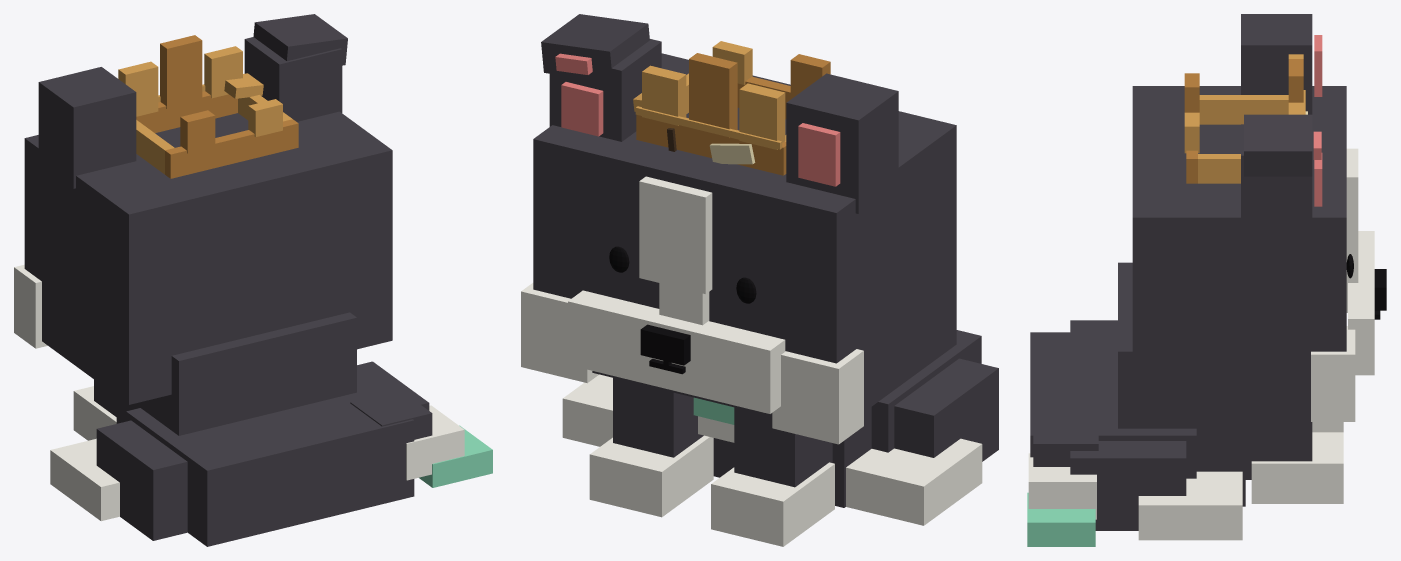
Rendered from BorderCollie_Block.gltf.
The picture shows the model from 3 angles, left to right: view 1: azimuth 30°, elevation 25°; view 2: azimuth 150°, elevation 25°; view 3: azimuth 270°, elevation 25°; orthographic projection. The views are drawn at different scales.
Parts seen in each view (by area): view 1: BigHead, SeatedRump, ShortTorso, ChunkyEarL, LegBL_Leg, ChunkyEarR, LegBL_Paw, CrownBackBand, EarTopFoldR, CrownCrenelCenter, TailWhiteBand, TailRoot (+11 smaller); view 2: BigHead, WhiteMuzzle, ChunkyEarL, LegBL_Paw, LegBL_Leg, WhiteBlazeUpper, LegFR_Paw, LegFL_Paw, HangingCheekFluffL, LegFR_Leg, LegFL_Leg, ChunkyEarR (+20 smaller); view 3: BigHead, SeatedRump, LegBR_Leg, ShortTorso, LegBR_Paw, ChunkyEarL, LegFR_Paw, EarTopFoldR, ChunkyEarR, LegFR_Leg, HangingCheekFluffR, WhiteMuzzle (+13 smaller).
Boxes of the visible parts, x1,y1,x2,y2 form: BigHead: [24, 111, 392, 404]; SeatedRump: [126, 378, 414, 546]; ShortTorso: [116, 312, 356, 435]; ChunkyEarL: [38, 67, 136, 188]; LegBL_Leg: [96, 420, 187, 540]; ChunkyEarR: [244, 37, 342, 121]; LegBL_Paw: [50, 438, 119, 521]; CrownBackBand: [165, 119, 298, 178]; EarTopFoldR: [253, 14, 347, 65]; CrownCrenelCenter: [160, 35, 202, 109]; TailWhiteBand: [406, 405, 464, 480]; TailRoot: [350, 390, 432, 439]; BigHead: [533, 53, 956, 416]; WhiteMuzzle: [568, 290, 785, 413]; ChunkyEarL: [786, 73, 898, 213]; LegBL_Paw: [846, 438, 982, 525]; LegBL_Leg: [894, 358, 998, 461]; WhiteBlazeUpper: [639, 176, 712, 294]; LegFR_Paw: [589, 435, 713, 517]; LegFL_Paw: [711, 462, 834, 546]; HangingCheekFluffL: [772, 349, 863, 444]; LegFR_Leg: [613, 378, 703, 457]; LegFL_Leg: [734, 407, 832, 487]; ChunkyEarR: [549, 39, 661, 141]; BigHead: [1132, 86, 1346, 412]; SeatedRump: [1030, 332, 1196, 478]; LegBR_Leg: [1070, 441, 1186, 530]; ShortTorso: [1118, 262, 1245, 506]; LegBR_Paw: [1138, 471, 1242, 540]; ChunkyEarL: [1241, 14, 1312, 114]; LegFR_Paw: [1251, 432, 1343, 503]; EarTopFoldR: [1244, 114, 1312, 176]; ChunkyEarR: [1241, 124, 1312, 232]; LegFR_Leg: [1245, 413, 1312, 479]; HangingCheekFluffR: [1311, 326, 1355, 421]; WhiteMuzzle: [1348, 231, 1374, 375].
Bounding box in the file's own units: 2.69 × 2.93 × 2.42.
